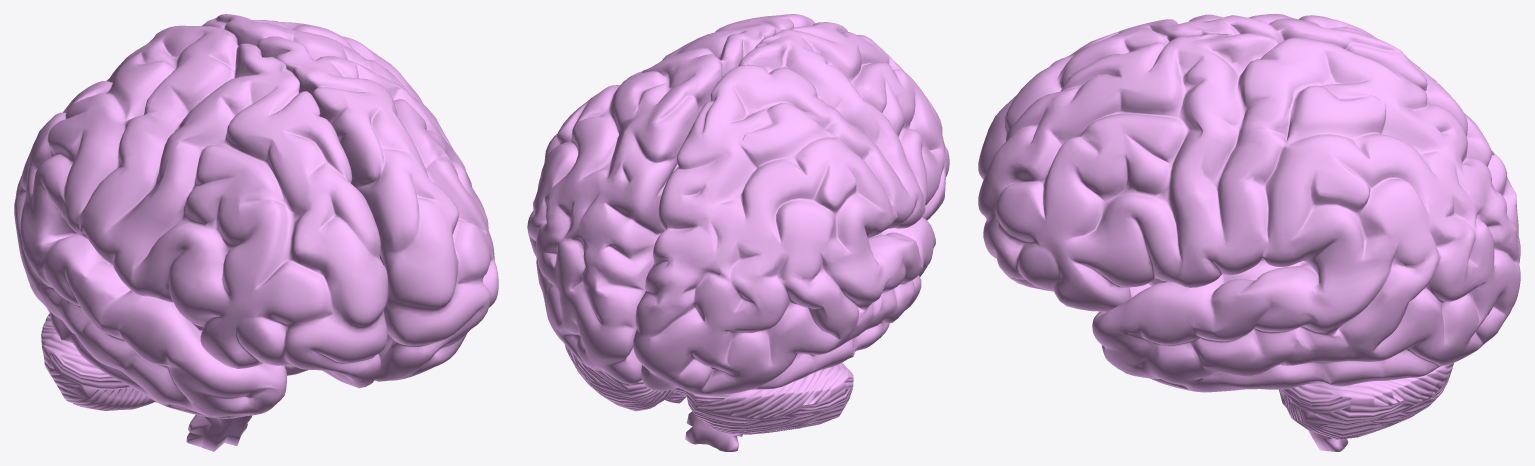
Rendered from brain_v01.glb.
3 renders of one model, left to right at view 1: azimuth 30°, elevation 25°; view 2: azimuth 150°, elevation 25°; view 3: azimuth 270°, elevation 25°, orthographic. The views are drawn at different scales.
Parts seen in each view (by area): view 1: Brain_Part_06, Brain_Part_04, Brain_Part_02, Brain_Part_05; view 2: Brain_Part_06, Brain_Part_04, Brain_Part_02, Brain_Part_05; view 3: Brain_Part_04, Brain_Part_06, Brain_Part_02, Brain_Part_05.
Part boxes in pixels (x1,y1,x2,y2): Brain_Part_06: [14, 25, 388, 418]; Brain_Part_04: [202, 14, 498, 381]; Brain_Part_02: [41, 313, 156, 410]; Brain_Part_05: [186, 323, 251, 451]; Brain_Part_06: [633, 22, 949, 395]; Brain_Part_04: [527, 14, 815, 384]; Brain_Part_02: [564, 344, 853, 434]; Brain_Part_05: [685, 411, 742, 451]; Brain_Part_04: [978, 33, 1520, 392]; Brain_Part_06: [978, 14, 1520, 263]; Brain_Part_02: [1281, 363, 1453, 439]; Brain_Part_05: [1148, 258, 1347, 451].
Size of the model in its own units: 1.06 by 1.12 by 1.32.
